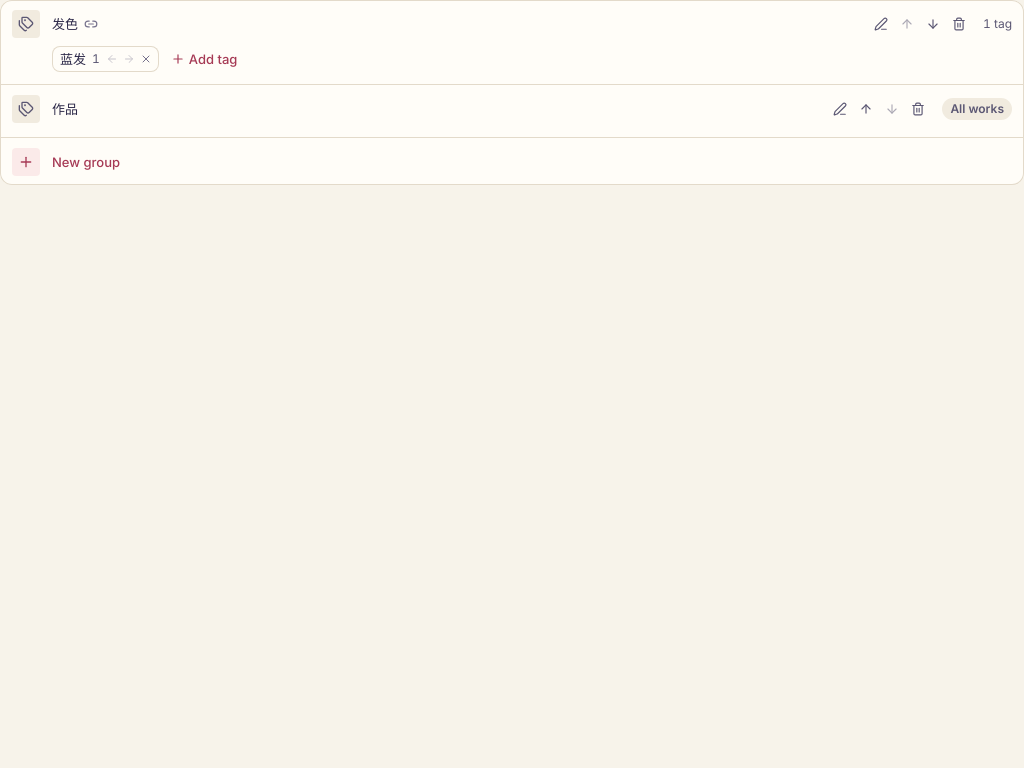
it: 英文界面：编辑分组 › 分组、成员、新建与删除确认
The image size is (1024, 768).
Check: the button with aria-label "发色 (1 tag)" is shown, box x1=52 y1=8 x2=857 y2=40
Check: the text "All works" is shown, box x1=950 y1=99 x2=1004 y2=119
Click the button with aria-label "New tag group" at [86, 162], box x1=0 y1=137 x2=1023 y2=185
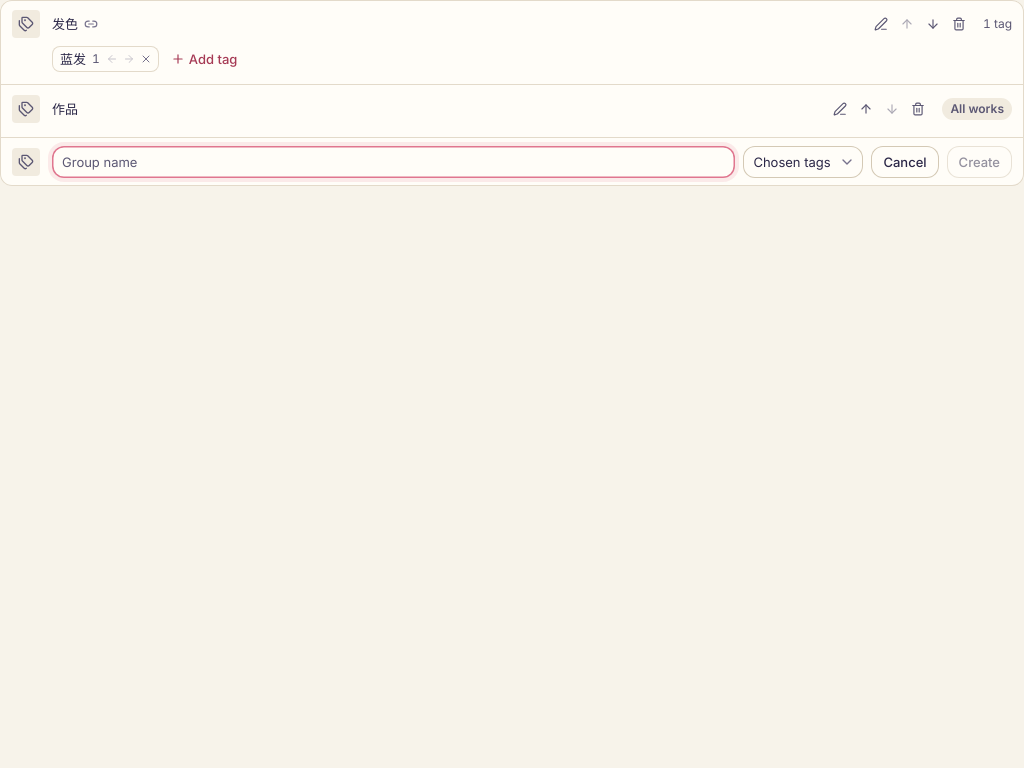
Click the button named "Delete tag group “发色”" at [959, 24], box x1=947 y1=12 x2=971 y2=36
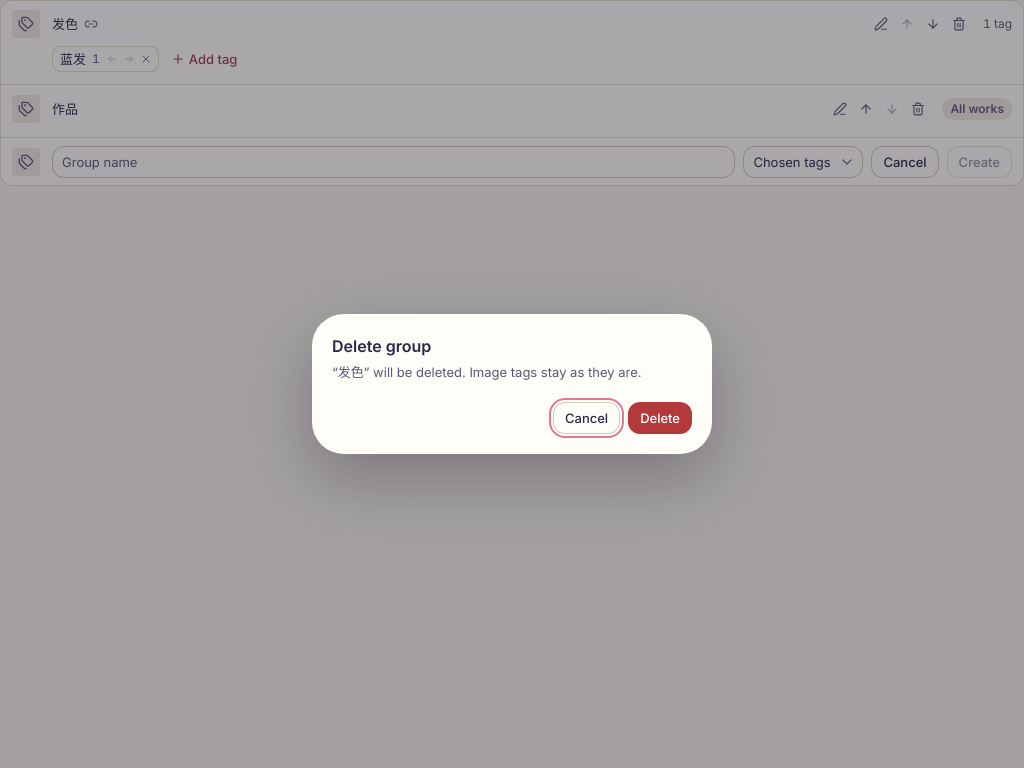
Check: the dialog is shown, box x1=312 y1=314 x2=712 y2=454
